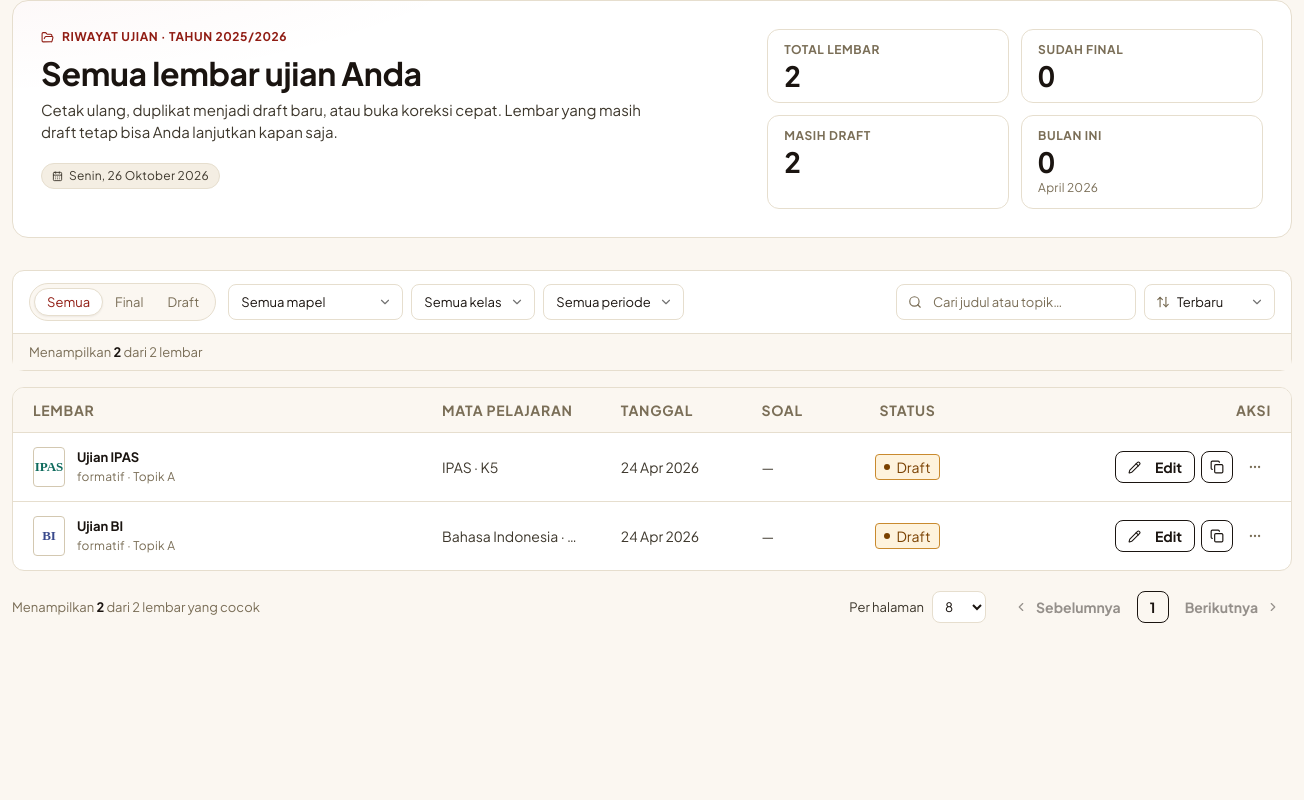
Test: HistoryPage › filters history by IPAS subject
The width and height of the screenshot is (1304, 800).
Expected: the button "Ujian IPAS" is shown, [77,449,175,467]
Select "IPAS" in the dropdown named "Filter mata pelajaran" at (316,302), box [228,284,403,320]
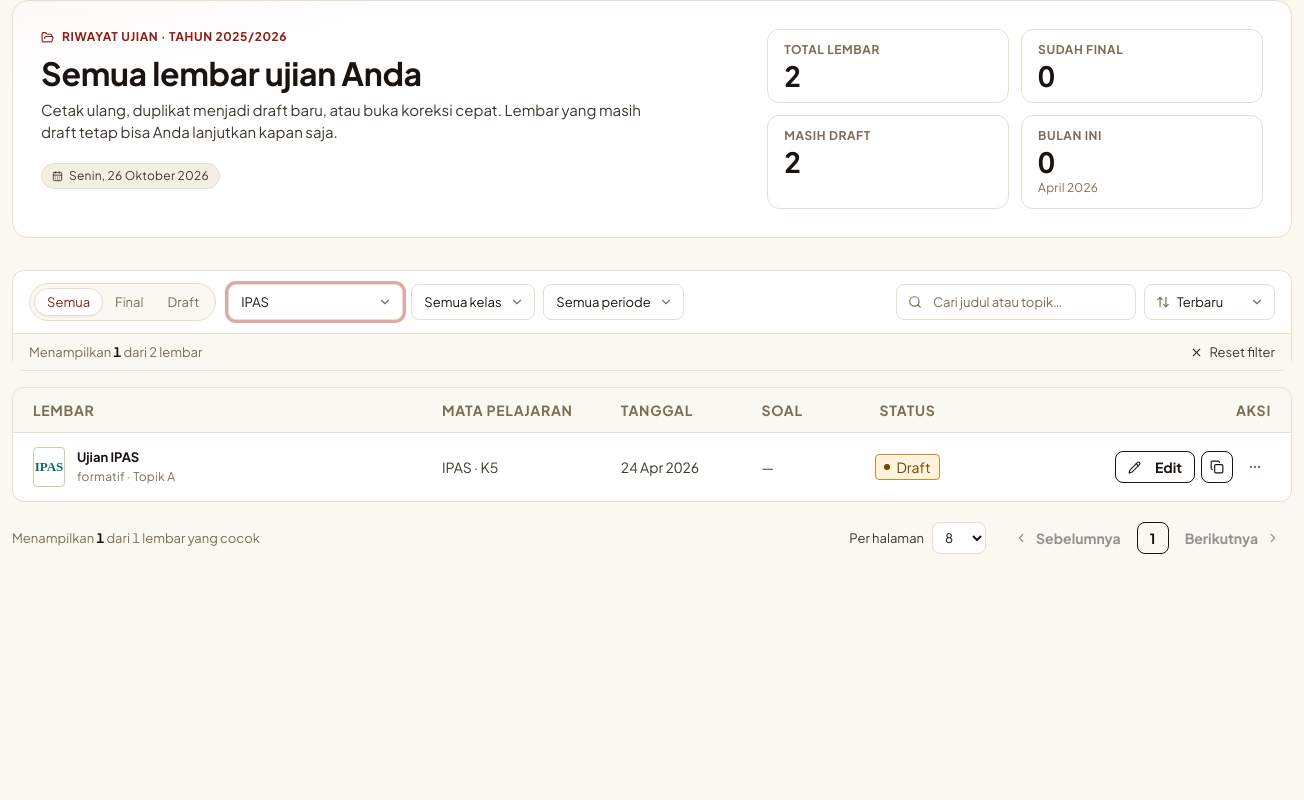
Expected: the button "Ujian IPAS" is shown, [77,449,175,467]
Expected: the button "Ujian BI" is gone
